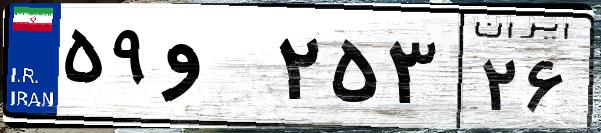2: (270, 28, 330, 110), (475, 38, 525, 113)
3: (385, 28, 445, 110)
5: (330, 28, 385, 110), (57, 26, 110, 100)
6: (525, 38, 570, 115)
9: (110, 28, 158, 98)
و: (158, 20, 270, 120)
